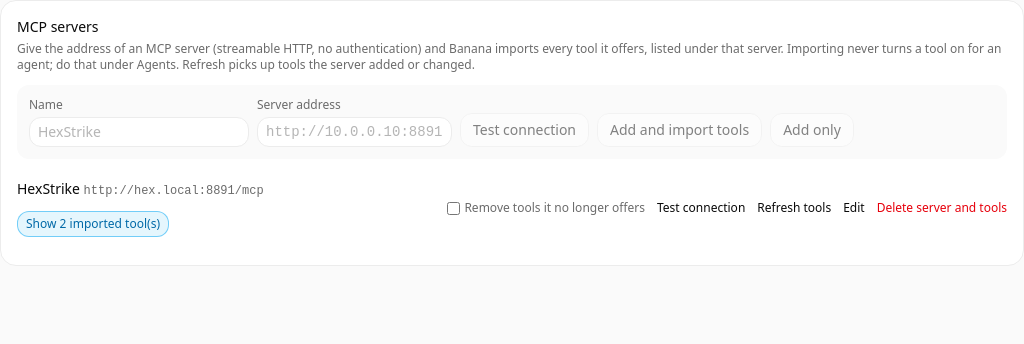
Test: McpServersCard › lists a server's tools under it, expanded on demand
Check: the text "nmap_scan" is not shown
Click the button "Show 2 imported tool(s)": (93, 224) [17, 211, 169, 237]
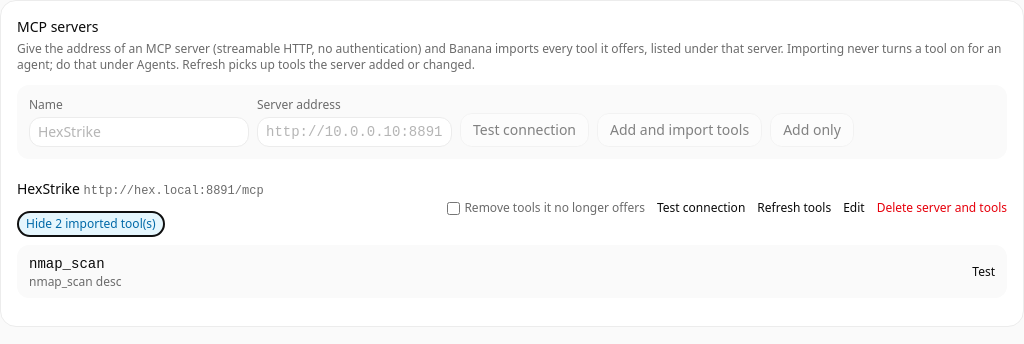
Check: the text "nmap_scan" is shown, box [29, 256, 105, 272]
